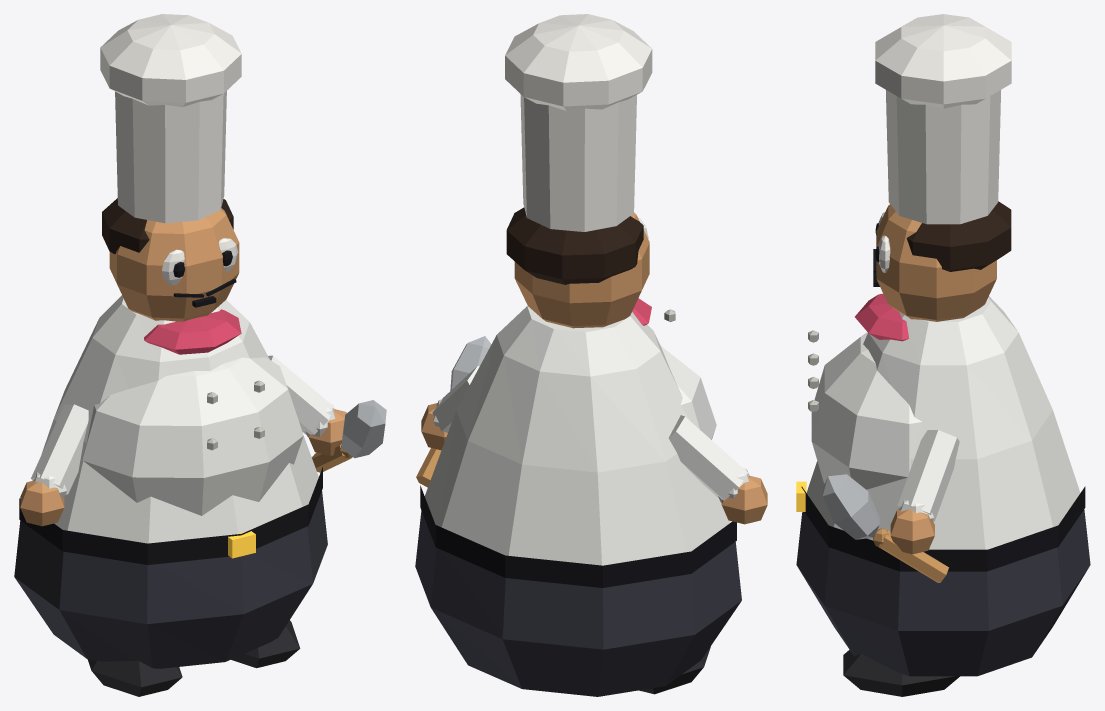
The model's file is npc_chef_bruno.glb.
3 views of the same model, side by side, from view 1: azimuth 30°, elevation 25°; view 2: azimuth 150°, elevation 25°; view 3: azimuth 270°, elevation 25° (orthographic). The views are drawn at different scales.
Visible parts, largest first — view 1: body_chef_jacket (×2), body_chef_check_pants, cap_white, head_skin_arena, body_black, arms_chef_jacket, legs_cook_shoes, body_chef_scarf, arms_skin_arena, props_whisk_wire, head_hair_dark, face_white (+3 smaller); view 2: body_chef_jacket (×2), body_chef_check_pants, cap_white, body_black, head_hair_dark, head_skin_arena, arms_chef_jacket, arms_skin_arena, props_whisk_wire, legs_cook_shoes; view 3: body_chef_jacket (×2), body_chef_check_pants, cap_white, head_skin_arena, body_black, head_hair_dark, arms_chef_jacket, legs_cook_shoes, props_whisk_wire, arms_skin_arena, body_chef_scarf, props_whisk_handle.
Boxes of the visible parts, x1,y1,x2,y2 form: body_chef_jacket (×2): [41, 295, 318, 543]; body_chef_check_pants: [14, 491, 327, 668]; cap_white: [100, 14, 241, 223]; head_skin_arena: [109, 208, 239, 321]; body_black: [19, 467, 322, 564]; arms_chef_jacket: [31, 355, 335, 499]; legs_cook_shoes: [87, 620, 300, 696]; body_chef_scarf: [144, 309, 241, 354]; arms_skin_arena: [20, 409, 346, 526]; props_whisk_wire: [341, 400, 386, 458]; head_hair_dark: [102, 198, 233, 254]; face_white: [162, 238, 238, 284]; body_chef_jacket (×2): [424, 305, 730, 565]; body_chef_check_pants: [415, 510, 741, 696]; cap_white: [505, 14, 652, 231]; body_black: [420, 485, 736, 587]; head_hair_dark: [506, 207, 643, 284]; head_skin_arena: [514, 212, 649, 328]; arms_chef_jacket: [432, 366, 749, 502]; arms_skin_arena: [421, 403, 767, 524]; props_whisk_wire: [450, 336, 491, 390]; legs_cook_shoes: [639, 646, 710, 694]; body_chef_jacket (×2): [806, 296, 1080, 549]; body_chef_check_pants: [796, 509, 1090, 676]; cap_white: [875, 14, 1011, 224]; head_skin_arena: [876, 204, 996, 321]; body_black: [801, 486, 1085, 571]; head_hair_dark: [906, 201, 1011, 271]; arms_chef_jacket: [897, 430, 959, 521]; legs_cook_shoes: [843, 650, 959, 696]; props_whisk_wire: [822, 474, 879, 539]; arms_skin_arena: [890, 509, 934, 554]; body_chef_scarf: [855, 293, 908, 341]; props_whisk_handle: [873, 528, 948, 582].
Bounding box in the file's own units: 1.13 × 2.05 × 0.86.
